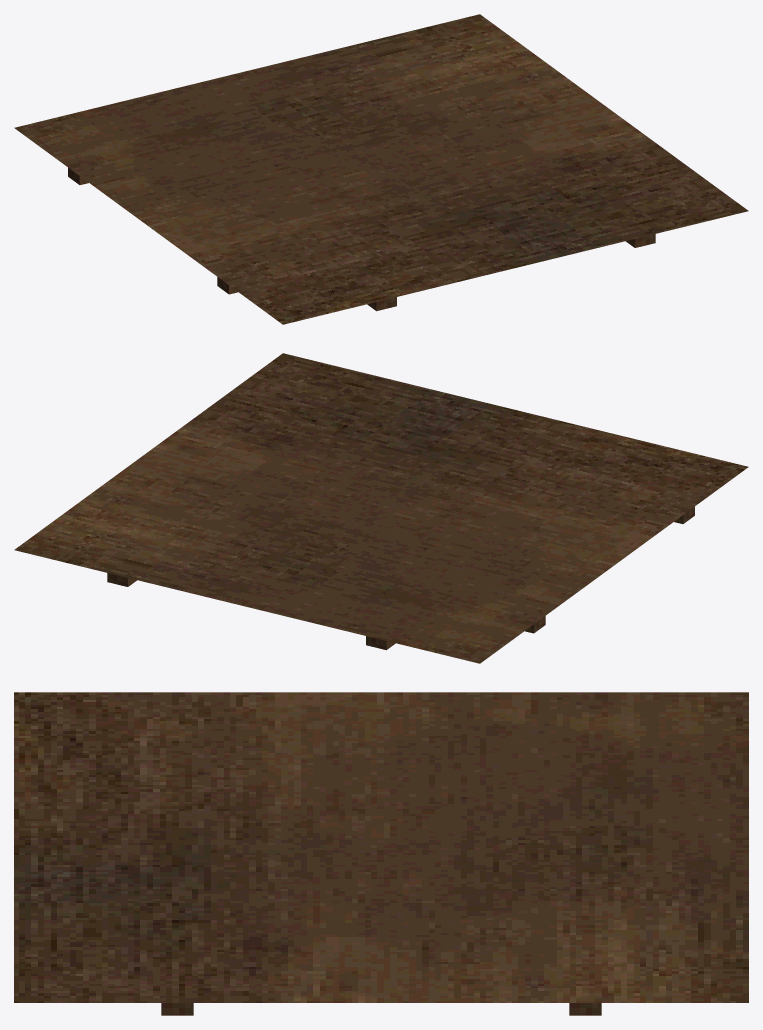
The model's file is ceilingWood.glb.
The picture shows the model from 3 angles, top to bottom: view 1: azimuth 30°, elevation 25°; view 2: azimuth 150°, elevation 25°; view 3: azimuth 270°, elevation 25°; orthographic projection. The views are drawn at different scales.
Visible parts, largest first — view 1: ceilingWood; view 2: ceilingWood; view 3: ceilingWood.
Boxes of the visible parts, x1,y1,x2,y2 form: ceilingWood: [14, 14, 748, 324]; ceilingWood: [14, 353, 748, 663]; ceilingWood: [14, 692, 748, 1015].
Bounding box in the file's own units: 4 × 0.0759 × 4.
Materials: 1 (1 with a texture image).
